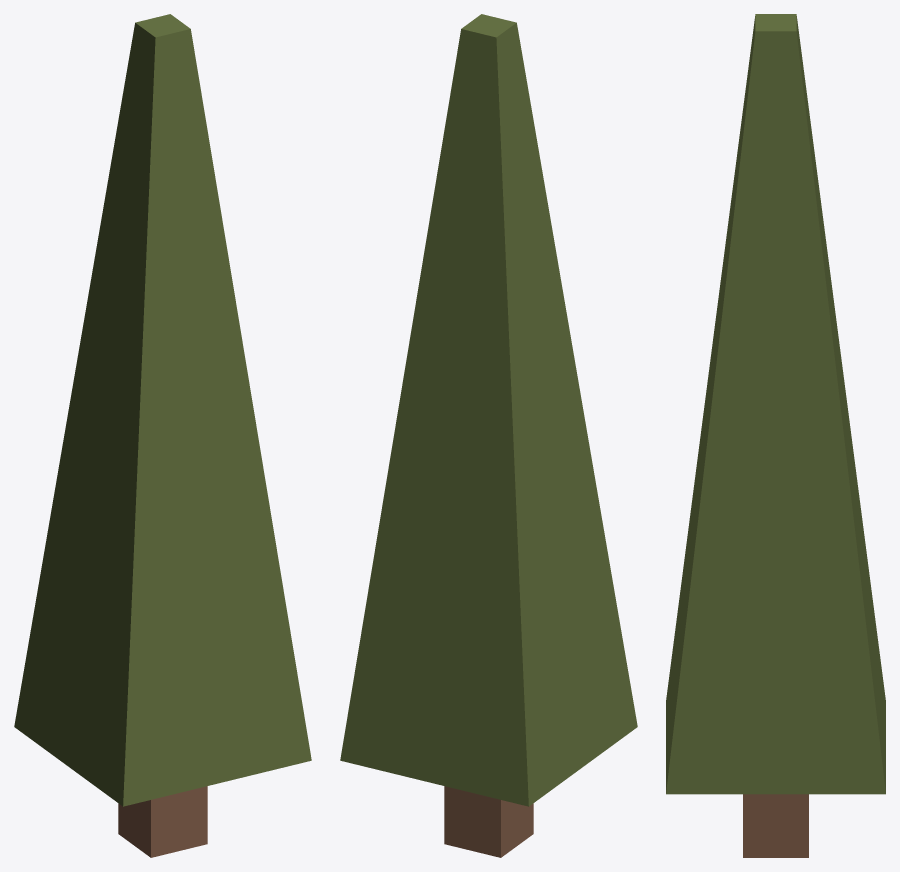
The model's file is fir_tree_18.fbx.
The picture shows the model from 3 angles, left to right: view 1: azimuth 30°, elevation 25°; view 2: azimuth 150°, elevation 25°; view 3: azimuth 270°, elevation 25°; orthographic projection.
Parts seen in each view (by area): view 1: fir_tree_18; view 2: fir_tree_18; view 3: fir_tree_18.
Part boxes in pixels (x1,y1,x2,y2): fir_tree_18: (14, 14, 311, 857); fir_tree_18: (340, 14, 637, 857); fir_tree_18: (666, 14, 885, 857).
Bounding box in the file's own units: 79.26 × 327 × 79.26.
